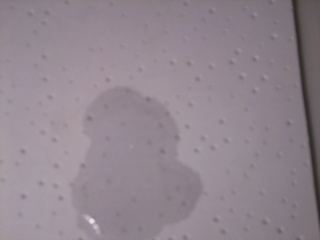Water_detected: (93, 105, 178, 207)
